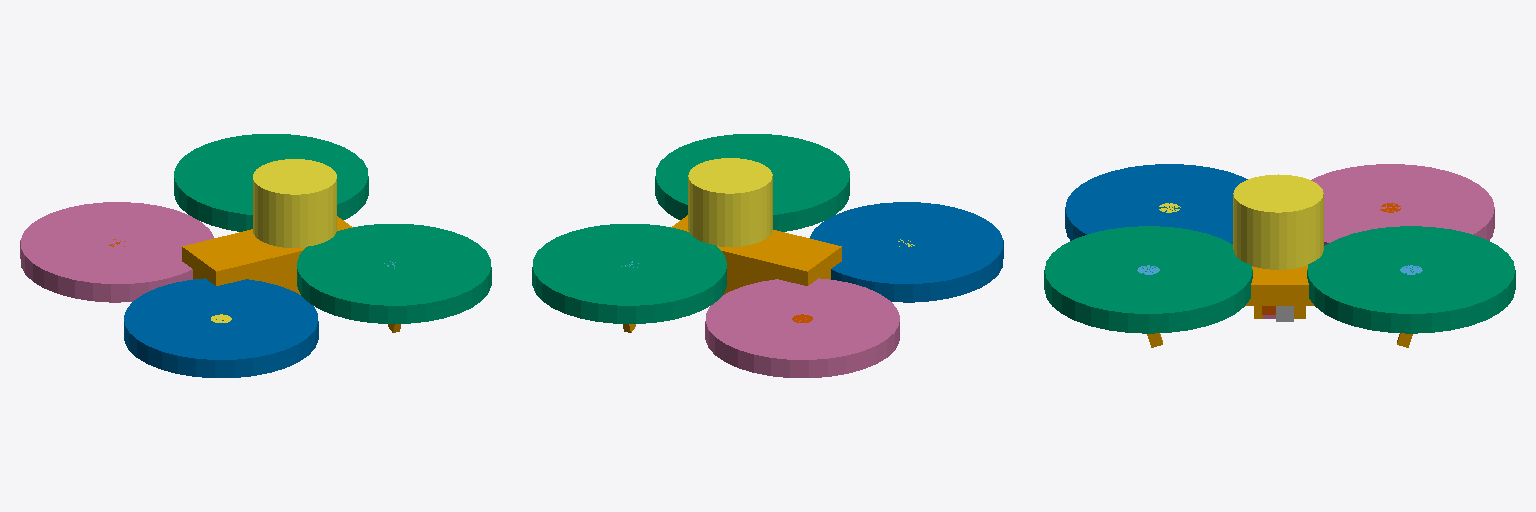
robot.urdf — Mavic2Pro:
<?xml version="1.0"?>
<robot name="Mavic2Pro">
  <webots>
        <plugin type="padoru_webots.drone_driver.DroneDriver" />
  </webots>
  <device reference="lidar" type="Lidar">
      <ros>
          <enabled>true</enabled>
          <updateRate>10</updateRate>
          <topicName>/scan</topicName>
          <alwaysOn>true</alwaysOn>
          <frameName>lidar</frameName>
      </ros>
  </device>
  <device reference="camera" type="Camera">
      <ros>
          <enabled>true</enabled>
          <updateRate>10</updateRate>
          <topicName>/Mavic_2_PRO/camera</topicName>
          <alwaysOn>true</alwaysOn>
          <frameName>optical_frame</frameName>
      </ros>
  </device>
  <device reference="range_finder" type="RangeFinder">
      <ros>
          <enabled>true</enabled>
          <updateRate>10</updateRate>
          <topicName>/Mavic_2_PRO/range_finder</topicName>
          <alwaysOn>true</alwaysOn>
          <frameName>optical_frame</frameName>
      </ros>
  </device>
  <link name="base_link">
    <visual>
      <origin xyz="-0.03 0 0.002" rpy="0 0 0"/>
      <geometry>
        <box size="0.21 0.085 0.027"/>
      </geometry>
    </visual>
    <collision>
      <origin xyz="-0.03 0 0.002" rpy="0 0 0"/>
      <geometry>
        <box size="0.21 0.085 0.027"/>
      </geometry>
    </collision>
    <visual>
      <origin xyz="-0.06 0 -0.03" rpy="0 0 0"/>
      <geometry>
        <box size="0.15 0.06 0.053"/>
      </geometry>
    </visual>
    <collision>
      <origin xyz="-0.06 0 -0.03" rpy="0 0 0"/>
      <geometry>
        <box size="0.15 0.06 0.053"/>
      </geometry>
    </collision>
    <visual>
      <origin xyz="0.03 0.09 -0.001" rpy="0 0 -0.3927"/>
      <geometry>
        <box size="0.01 0.15 0.025"/>
      </geometry>
    </visual>
    <collision>
      <origin xyz="0.03 0.09 -0.001" rpy="0 0 -0.3927"/>
      <geometry>
        <box size="0.01 0.15 0.025"/>
      </geometry>
    </collision>
    <visual>
      <origin xyz="0.03 -0.09 -0.001" rpy="0 0 0.3927"/>
      <geometry>
        <box size="0.01 0.15 0.025"/>
      </geometry>
    </visual>
    <collision>
      <origin xyz="0.03 -0.09 -0.001" rpy="0 0 0.3927"/>
      <geometry>
        <box size="0.01 0.15 0.025"/>
      </geometry>
    </collision>
    <visual>
      <origin xyz="-0.138 0.08 -0.032" rpy="0 0 0.68"/>
      <geometry>
        <box size="0.01 0.12 0.018"/>
      </geometry>
    </visual>
    <collision>
      <origin xyz="-0.138 0.08 -0.032" rpy="0 0 0.68"/>
      <geometry>
        <box size="0.01 0.12 0.018"/>
      </geometry>
    </collision>
    <visual>
      <origin xyz="-0.138 -0.08 -0.032" rpy="0 0 -0.68"/>
      <geometry>
        <box size="0.01 0.12 0.018"/>
      </geometry>
    </visual>
    <collision>
      <origin xyz="-0.138 -0.08 -0.032" rpy="0 0 -0.68"/>
      <geometry>
        <box size="0.01 0.12 0.018"/>
      </geometry>
    </collision>
    <visual>
      <origin xyz="0.06 0.15 -0.039" rpy="-0.29 0 0"/>
      <geometry>
        <box size="0.01 0.014 0.06"/>
      </geometry>
    </visual>
    <collision>
      <origin xyz="0.06 0.15 -0.039" rpy="-0.29 0 0"/>
      <geometry>
        <box size="0.01 0.014 0.06"/>
      </geometry>
    </collision>
    <visual>
      <origin xyz="0.06 -0.15 -0.039" rpy="0.29 0 0"/>
      <geometry>
        <box size="0.01 0.014 0.06"/>
      </geometry>
    </visual>
    <collision>
      <origin xyz="0.06 -0.15 -0.039" rpy="0.29 0 0"/>
      <geometry>
        <box size="0.01 0.014 0.06"/>
      </geometry>
    </collision>
  </link>
  <link name="front left propeller">
    <visual>
      <origin xyz="0 0 0.015" rpy="0 0 0"/>
      <geometry>
        <cylinder radius="0.013" length="0.025"/>
      </geometry>
    </visual>
    <collision>
      <origin xyz="0 0 0.015" rpy="0 0 0"/>
      <geometry>
        <cylinder radius="0.013" length="0.025"/>
      </geometry>
    </collision>
    <visual>
      <origin xyz="0 0 0.023" rpy="0 0 -0.7854"/>
      <geometry>
        <box size="0.23 0.018 0.005"/>
      </geometry>
    </visual>
    <collision>
      <origin xyz="0 0 0.023" rpy="0 0 -0.7854"/>
      <geometry>
        <box size="0.23 0.018 0.005"/>
      </geometry>
    </collision>
  </link>
  <joint name="base_link_front left propeller_joint" type="fixed">
    <parent link="base_link"/>
    <child link="front left propeller"/>
    <origin xyz="0.054854 0.151294 -0.002805" rpy="0 0 0"/>
  </joint>
  <link name="solid">
    <visual>
      <origin xyz="0 0 0.015" rpy="0 0 0"/>
      <geometry>
        <cylinder radius="0.12" length="0.025"/>
      </geometry>
    </visual>
    <collision>
      <origin xyz="0 0 0.015" rpy="0 0 0"/>
      <geometry>
        <cylinder radius="0.12" length="0.025"/>
      </geometry>
    </collision>
  </link>
  <joint name="base_link_solid_joint" type="fixed">
    <parent link="base_link"/>
    <child link="solid"/>
    <origin xyz="0.054854 0.151294 -0.002805" rpy="0 0 0"/>
  </joint>
  <link name="front left led">
    <visual>
      <origin xyz="0.060348 0.163919 -0.007601" rpy="0 0 0"/>
      <geometry>
        <box size="0.0152149 0.0106945 0.0069468"/>
      </geometry>
    </visual>
    <collision>
      <origin xyz="0.060348 0.163919 -0.007601" rpy="0 0 0"/>
      <geometry>
        <box size="0.0152149 0.0106945 0.0069468"/>
      </geometry>
    </collision>
  </link>
  <joint name="base_link_front left led_joint" type="fixed">
    <parent link="base_link"/>
    <child link="front left led"/>
    <origin xyz="0 0 0" rpy="0 0 0"/>
  </joint>
  <link name="front right led">
    <visual>
      <origin xyz="0.060348 -0.163659 -0.007601" rpy="0 0 0"/>
      <geometry>
        <box size="0.0152149 0.0106945 0.00694674"/>
      </geometry>
    </visual>
    <collision>
      <origin xyz="0.060348 -0.163659 -0.007601" rpy="0 0 0"/>
      <geometry>
        <box size="0.0152149 0.0106945 0.00694674"/>
      </geometry>
    </collision>
  </link>
  <joint name="base_link_front right led_joint" type="fixed">
    <parent link="base_link"/>
    <child link="front right led"/>
    <origin xyz="0 0 0" rpy="0 0 0"/>
  </joint>
  <link name="camera yaw">
    <visual>
      <origin xyz="0 -0.003045 -0.014059" rpy="0 0 0"/>
      <geometry>
        <box size="0.0208626 0.0260333 0.0307844"/>
      </geometry>
    </visual>
    <collision>
      <origin xyz="0 -0.003045 -0.014059" rpy="0 0 0"/>
      <geometry>
        <box size="0.0208626 0.0260333 0.0307844"/>
      </geometry>
    </collision>
  </link>
  <joint name="base_link_camera yaw_joint" type="fixed">
    <parent link="base_link"/>
    <child link="camera yaw"/>
    <axis xyz="0 0 1"/>
    <!-- <limit effort="10" lower="-1.7" upper="1.7" velocity="10"/> -->
    <origin xyz="0.041277 -0.004697 -0.004059" rpy="0 0 0"/>
  </joint>
  <link name="camera pitch">
    <visual>
      <origin xyz="-0.002483 0.007769 0.001838" rpy="0 0 0"/>
      <geometry>
        <box size="0.0239878 0.0349393 0.0314891"/>
      </geometry>
    </visual>
    <collision>
      <origin xyz="-0.002483 0.007769 0.001838" rpy="0 0 0"/>
      <geometry>
        <box size="0.0239878 0.0349393 0.0314891"/>
      </geometry>
    </collision>
  </link>
  <joint name="camera yaw_camera pitch_joint" type="fixed">
    <parent link="camera yaw"/>
    <child link="camera pitch"/>
    <axis xyz="0 1 0"/>
    <!-- <limit effort="10" lower="-0.5" upper="1.7" velocity="10"/> -->
    <origin xyz="0.000625 -0.005303 -0.020745" rpy="0 0 0"/>
  </joint>
  <link name="camera roll">
    <visual>
      <origin xyz="-0.009151 0 -0.000984" rpy="0 0 0"/>
      <geometry>
        <box size="0.0236511 0.0205141 0.0225186"/>
      </geometry>
    </visual>
    <collision>
      <origin xyz="-0.009151 0 -0.000984" rpy="0 0 0"/>
      <geometry>
        <box size="0.0236511 0.0205141 0.0225186"/>
      </geometry>
    </collision>
  </link>
  <joint name="camera pitch_camera roll_joint" type="fixed">
    <parent link="camera pitch"/>
    <child link="camera roll"/>
    <axis xyz="1 0 0"/>
    <!-- <limit effort="10" lower="-0.5" upper="0.5" velocity="10"/> -->
    <origin xyz="0.007547 0.016039 -0.005864" rpy="0 0 0"/>
  </joint>
  <link name="camera">
  </link>
  <joint name="camera roll_camera_joint" type="fixed">
    <parent link="camera roll"/>
    <child link="camera"/>
    <origin xyz="0 0 0" rpy="-1.570796 0 -1.570796"/>
  </joint>
  <link name="front right propeller">
    <visual>
      <origin xyz="0 0 0.015" rpy="0 0 0"/>
      <geometry>
        <cylinder radius="0.013" length="0.025"/>
      </geometry>
    </visual>
    <collision>
      <origin xyz="0 0 0.015" rpy="0 0 0"/>
      <geometry>
        <cylinder radius="0.013" length="0.025"/>
      </geometry>
    </collision>
    <visual>
      <origin xyz="0 0 0.023" rpy="0 0 0.7854"/>
      <geometry>
        <box size="0.23 0.018 0.005"/>
      </geometry>
    </visual>
    <collision>
      <origin xyz="0 0 0.023" rpy="0 0 0.7854"/>
      <geometry>
        <box size="0.23 0.018 0.005"/>
      </geometry>
    </collision>
  </link>
  <joint name="base_link_front right propeller_joint" type="fixed">
    <parent link="base_link"/>
    <child link="front right propeller"/>
    <origin xyz="0.054854 -0.151294 -0.002805" rpy="0 0 0"/>
  </joint>
  <link name="solid_0">
    <visual>
      <origin xyz="0 0 0.015" rpy="0 0 0"/>
      <geometry>
        <cylinder radius="0.12" length="0.025"/>
      </geometry>
    </visual>
    <collision>
      <origin xyz="0 0 0.015" rpy="0 0 0"/>
      <geometry>
        <cylinder radius="0.12" length="0.025"/>
      </geometry>
    </collision>
  </link>
  <joint name="base_link_solid_0_joint" type="fixed">
    <parent link="base_link"/>
    <child link="solid_0"/>
    <origin xyz="0.054854 -0.151294 -0.002805" rpy="0 0 0"/>
  </joint>
  <link name="rear right propeller">
    <visual>
      <origin xyz="0 0 0.015" rpy="0 0 0"/>
      <geometry>
        <cylinder radius="0.013" length="0.025"/>
      </geometry>
    </visual>
    <collision>
      <origin xyz="0 0 0.015" rpy="0 0 0"/>
      <geometry>
        <cylinder radius="0.013" length="0.025"/>
      </geometry>
    </collision>
    <visual>
      <origin xyz="0 0 0.023" rpy="0 0 -0.7854"/>
      <geometry>
        <box size="0.23 0.018 0.005"/>
      </geometry>
    </visual>
    <collision>
      <origin xyz="0 0 0.023" rpy="0 0 -0.7854"/>
      <geometry>
        <box size="0.23 0.018 0.005"/>
      </geometry>
    </collision>
  </link>
  <joint name="base_link_rear right propeller_joint" type="fixed">
    <parent link="base_link"/>
    <child link="rear right propeller"/>
    <origin xyz="-0.177179 -0.127453 -0.032028" rpy="0 0 0"/>
  </joint>
  <link name="solid_1">
    <visual>
      <origin xyz="0 0 0.015" rpy="0 0 0"/>
      <geometry>
        <cylinder radius="0.12" length="0.025"/>
      </geometry>
    </visual>
    <collision>
      <origin xyz="0 0 0.015" rpy="0 0 0"/>
      <geometry>
        <cylinder radius="0.12" length="0.025"/>
      </geometry>
    </collision>
  </link>
  <joint name="base_link_solid_1_joint" type="fixed">
    <parent link="base_link"/>
    <child link="solid_1"/>
    <origin xyz="-0.177179 -0.127453 -0.032028" rpy="0 0 0"/>
  </joint>
  <link name="rear left propeller">
    <visual>
      <origin xyz="0 0 0.015" rpy="0 0 0"/>
      <geometry>
        <cylinder radius="0.013" length="0.025"/>
      </geometry>
    </visual>
    <collision>
      <origin xyz="0 0 0.015" rpy="0 0 0"/>
      <geometry>
        <cylinder radius="0.013" length="0.025"/>
      </geometry>
    </collision>
    <visual>
      <origin xyz="0 0 0.023" rpy="0 0 0.7854"/>
      <geometry>
        <box size="0.23 0.018 0.005"/>
      </geometry>
    </visual>
    <collision>
      <origin xyz="0 0 0.023" rpy="0 0 0.7854"/>
      <geometry>
        <box size="0.23 0.018 0.005"/>
      </geometry>
    </collision>
  </link>
  <joint name="base_link_rear left propeller_joint" type="fixed">
    <parent link="base_link"/>
    <child link="rear left propeller"/>
    <origin xyz="-0.177179 0.127453 -0.032028" rpy="0 0 0"/>
  </joint>
  <link name="solid_2">
    <visual>
      <origin xyz="0 0 0.015" rpy="0 0 0"/>
      <geometry>
        <cylinder radius="0.12" length="0.025"/>
      </geometry>
    </visual>
    <collision>
      <origin xyz="0 0 0.015" rpy="0 0 0"/>
      <geometry>
        <cylinder radius="0.12" length="0.025"/>
      </geometry>
    </collision>
  </link>
  <joint name="base_link_solid_2_joint" type="fixed">
    <parent link="base_link"/>
    <child link="solid_2"/>
    <origin xyz="-0.177179 0.127453 -0.032028" rpy="0 0 0"/>
  </joint>
  <link name="inertial unit">
  </link>
  <joint name="base_link_inertial unit_joint" type="fixed">
    <parent link="base_link"/>
    <child link="inertial unit"/>
    <origin xyz="0 0 0" rpy="0 0 0"/>
  </joint>
  <link name="gyro">
  </link>
  <joint name="base_link_gyro_joint" type="fixed">
    <parent link="base_link"/>
    <child link="gyro"/>
    <origin xyz="0 0 0" rpy="0 0 0"/>
  </joint>
  <link name="gps">
  </link>
  <joint name="base_link_gps_joint" type="fixed">
    <parent link="base_link"/>
    <child link="gps"/>
    <origin xyz="0 0 0" rpy="0 0 0"/>
  </joint>
  <link name="compass">
  </link>
  <joint name="base_link_compass_joint" type="fixed">
    <parent link="base_link"/>
    <child link="compass"/>
    <origin xyz="0 0 0" rpy="0 0 0"/>
  </joint>
  <link name="lidar">
    <visual>
      <origin xyz="0 -0.00165 0" rpy="0 0 0"/>
      <geometry>
        <cylinder radius="0.052" length="0.0727"/>
      </geometry>
    </visual>
    <collision>
      <origin xyz="0 -0.00165 0" rpy="0 0 0"/>
      <geometry>
        <cylinder radius="0.052" length="0.0727"/>
      </geometry>
    </collision>
  </link>
  <joint name="base_link_lidar_joint" type="fixed">
    <parent link="base_link"/>
    <child link="lidar"/>
    <origin xyz="0 0 0.06" rpy="0 0 0"/>
  </joint>
</robot>

--- Render facts (derived) ---
3 views of the same robot in one strip: view 1: azimuth 30°, elevation 25°; view 2: azimuth 150°, elevation 25°; view 3: azimuth 270°, elevation 25° (orthographic).
Robot: Mavic2Pro — 20 links, 19 joints (19 fixed); root link base_link; default pose: every joint at zero.
Links seen in each view (by area): view 1: solid_0, solid_1, solid_2, solid, lidar, base_link; view 2: solid, solid_2, solid_1, solid_0, lidar, base_link; view 3: solid, solid_0, solid_2, solid_1, lidar, base_link.
Boxes of the visible links, x1=… form: solid_0: x1=297, y1=224, x2=491, y2=323; solid_1: x1=124, y1=278, x2=318, y2=377; solid_2: x1=20, y1=202, x2=213, y2=302; solid: x1=174, y1=134, x2=368, y2=231; lidar: x1=253, y1=159, x2=336, y2=247; base_link: x1=182, y1=216, x2=400, y2=332; solid: x1=532, y1=224, x2=726, y2=323; solid_2: x1=705, y1=278, x2=899, y2=377; solid_1: x1=810, y1=202, x2=1003, y2=302; solid_0: x1=655, y1=134, x2=849, y2=231; lidar: x1=688, y1=158, x2=772, y2=246; base_link: x1=623, y1=215, x2=841, y2=332; solid: x1=1307, y1=226, x2=1515, y2=333; solid_0: x1=1044, y1=226, x2=1252, y2=333; solid_2: x1=1311, y1=164, x2=1494, y2=245; solid_1: x1=1065, y1=164, x2=1247, y2=243; lidar: x1=1233, y1=174, x2=1323, y2=269; base_link: x1=1147, y1=265, x2=1412, y2=347.
Bounding box of the posed robot: 0.472 × 0.5426 × 0.1661 m (x, y, z).
Geometry: primitives only (box / cylinder / sphere), no mesh files.
